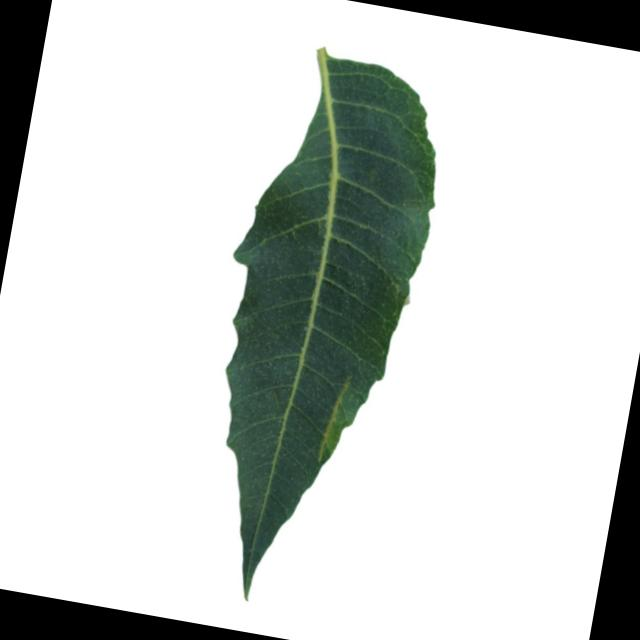Medicinal-Neem: (171, 29, 460, 624)
